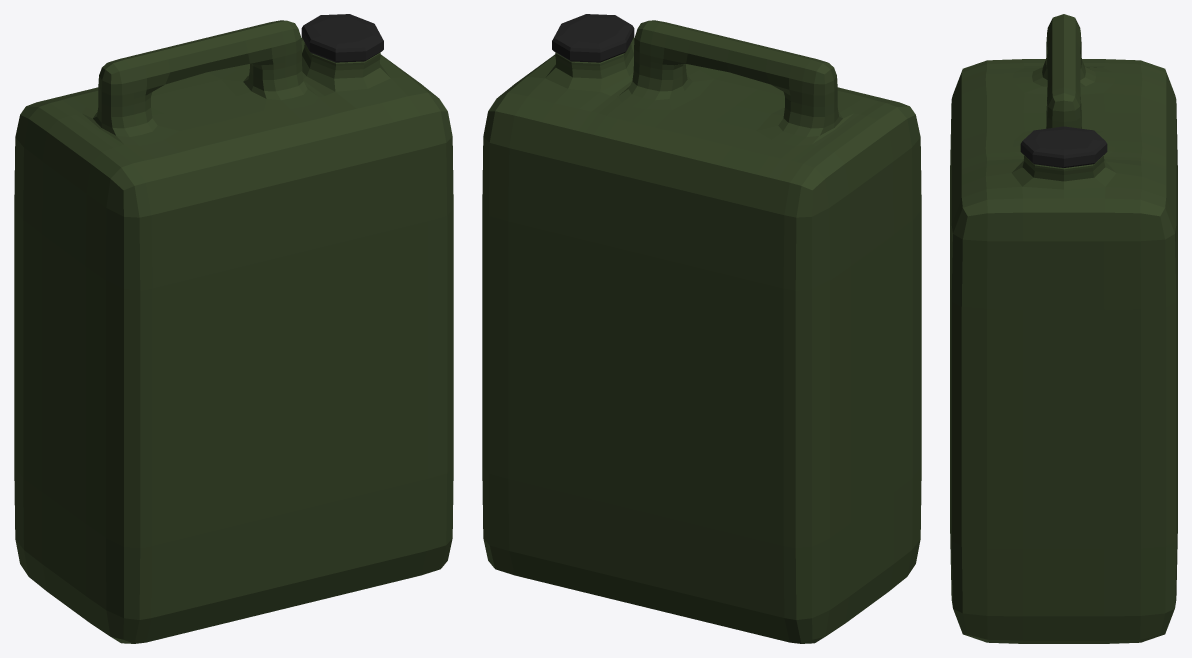
Rendered from greenJerrycan.fbx.
3 views of the same model, side by side, from view 1: azimuth 30°, elevation 25°; view 2: azimuth 150°, elevation 25°; view 3: azimuth 270°, elevation 25° (orthographic). The views are drawn at different scales.
Visible parts, largest first — view 1: greenJerrycan; view 2: greenJerrycan; view 3: greenJerrycan.
Boxes of the visible parts, box(x1,y1,x2,y2) form: greenJerrycan: box(14, 14, 453, 643); greenJerrycan: box(482, 14, 921, 643); greenJerrycan: box(950, 14, 1177, 643).
Size of the model in its own units: 29.66 by 45.4 by 18.46.
